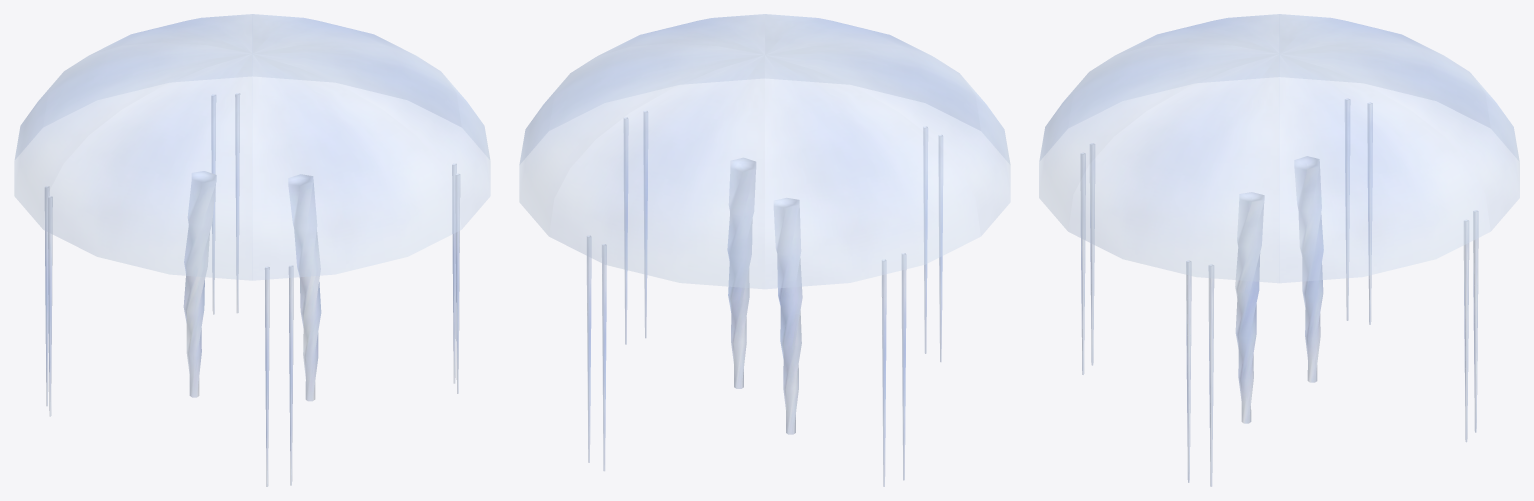
The model's file is moon_jelly.glb.
3 views of the same model, side by side, from view 1: azimuth 30°, elevation 25°; view 2: azimuth 150°, elevation 25°; view 3: azimuth 270°, elevation 25° (orthographic). The views are drawn at different scales.
Bounding box in the file's own units: 0.44 × 0.3476 × 0.4333.
Materials: 2 (2 with a texture image).
